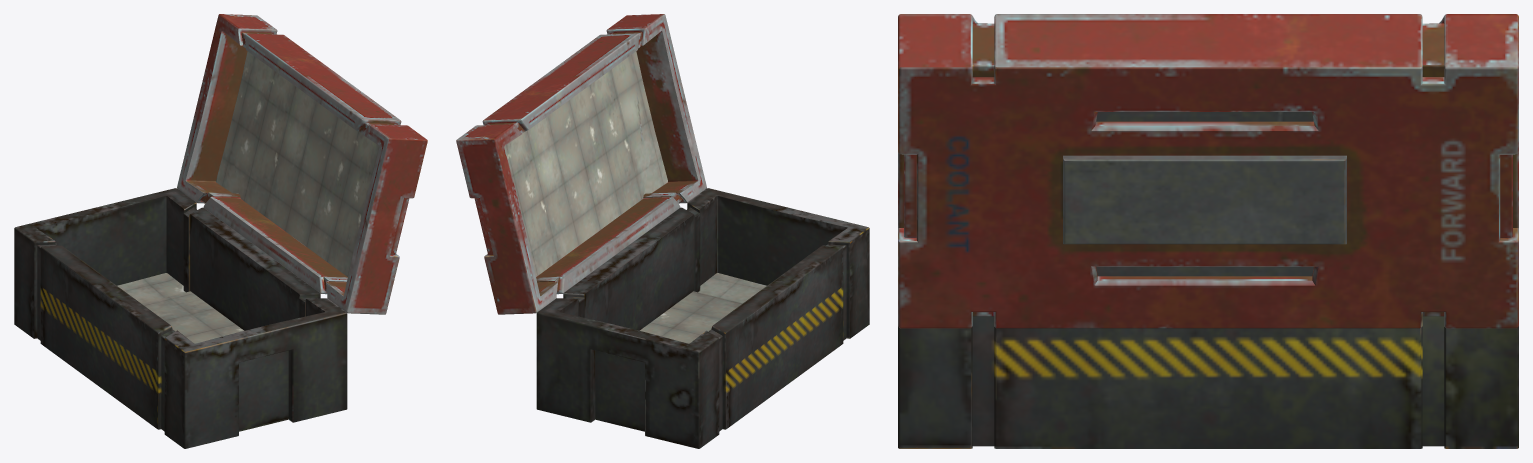
File: SM_Crates_LP_polySurface72.fbx
3 renders of one model, left to right at view 1: azimuth 30°, elevation 25°; view 2: azimuth 150°, elevation 25°; view 3: azimuth 270°, elevation 25°, orthographic. The views are drawn at different scales.
Parts seen in each view (by area): view 1: SM_Crates_LP_polySurface72_LOD0; view 2: SM_Crates_LP_polySurface72_LOD0; view 3: SM_Crates_LP_polySurface72_LOD0.
Boxes of the visible parts, bbox=[...] form: SM_Crates_LP_polySurface72_LOD0: bbox=[14, 14, 427, 448]; SM_Crates_LP_polySurface72_LOD0: bbox=[456, 14, 869, 448]; SM_Crates_LP_polySurface72_LOD0: bbox=[898, 14, 1518, 448].
Bounding box in the file's own units: 89.67 × 109 × 91.53.
1 material, 1 textured.
